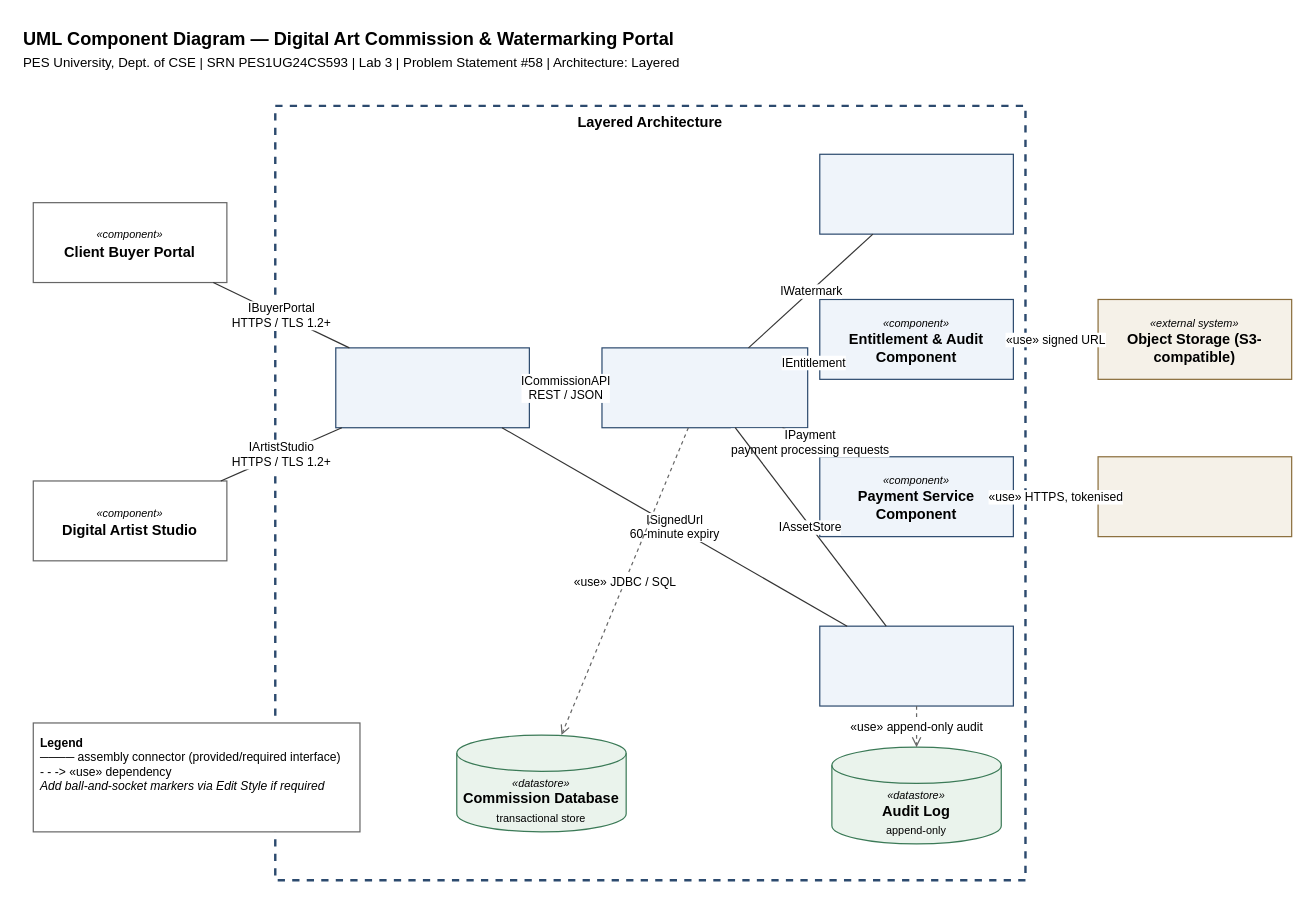
The diagram is 1313 pixels wide and 901 high, and some of its shapes have lost their labels. The shapes that lost their labels are listed below. From the top down, each one's centre as x and y in pixels, then its label:
At (x=916, y=193): "«component» Watermarking Service Component".
At (x=432, y=387): "«component» Web Portal UI Component".
At (x=704, y=387): "«component» Order Manager Component".
At (x=1194, y=496): "«external system» Payment Gateway".
At (x=916, y=665): "«component» Asset Store Adapter Component".
